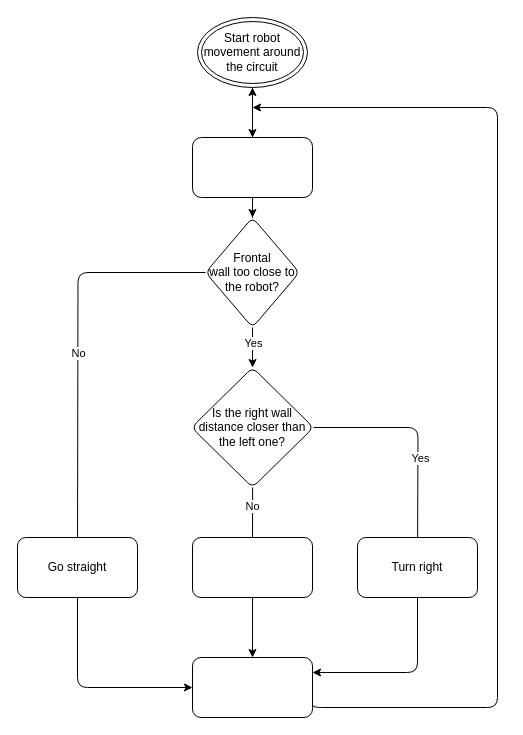
The diagram is 523 pixels wide and 735 high, and some of its shapes have lost their labels. Here are the shapes that lost their labels. From the top down, the box of each, then its label:
(192, 136, 312, 198): Update speed /position
(192, 536, 312, 598): Turn left
(192, 656, 312, 718): Control if there are speed changes
